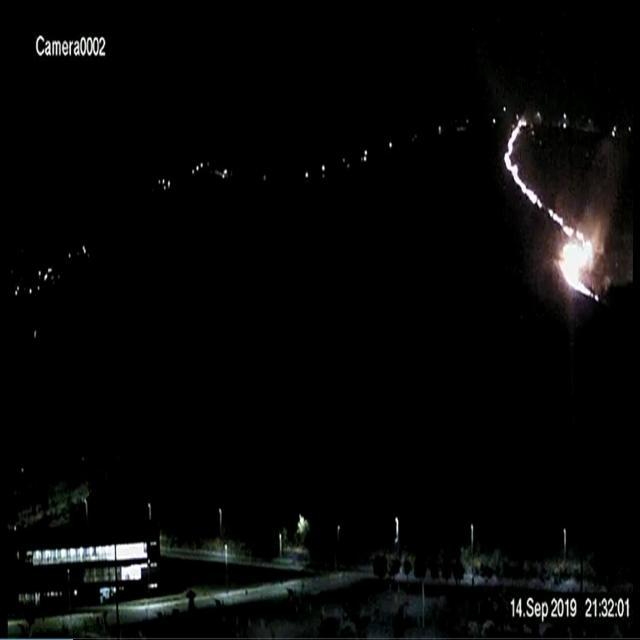Fire: (498, 116, 622, 302)
